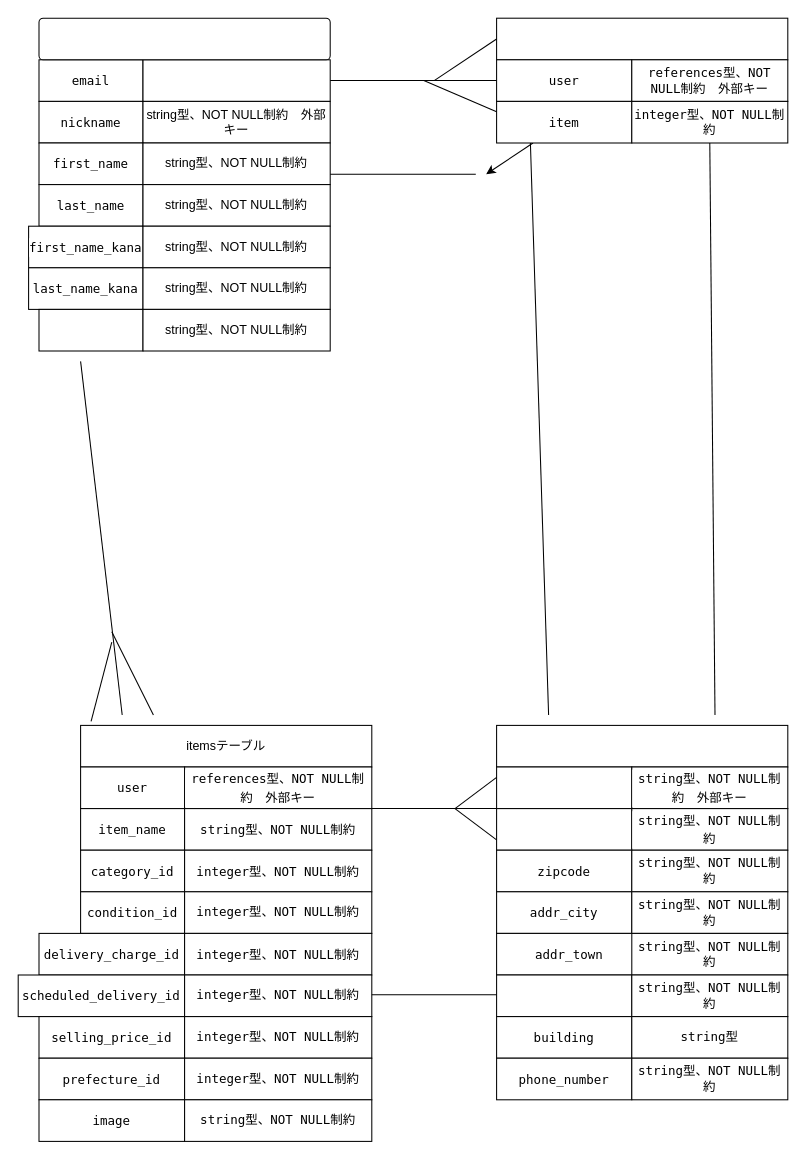
The diagram is 806 pixels wide and 1160 high, and some of its shapes have lost their labels. Here are the shapes that lost their labels. From the top down, the centre of each, then its label:
the point at 184,38: usersテーブル
the point at 642,38: ordersテーブル
the point at 236,80: string型、NOT NULL制約 ユニークキー
the point at 90,329: date
the point at 642,745: addressesテーブル
the point at 564,787: name
the point at 564,829: prefecture_name
the point at 564,995: addr_num
